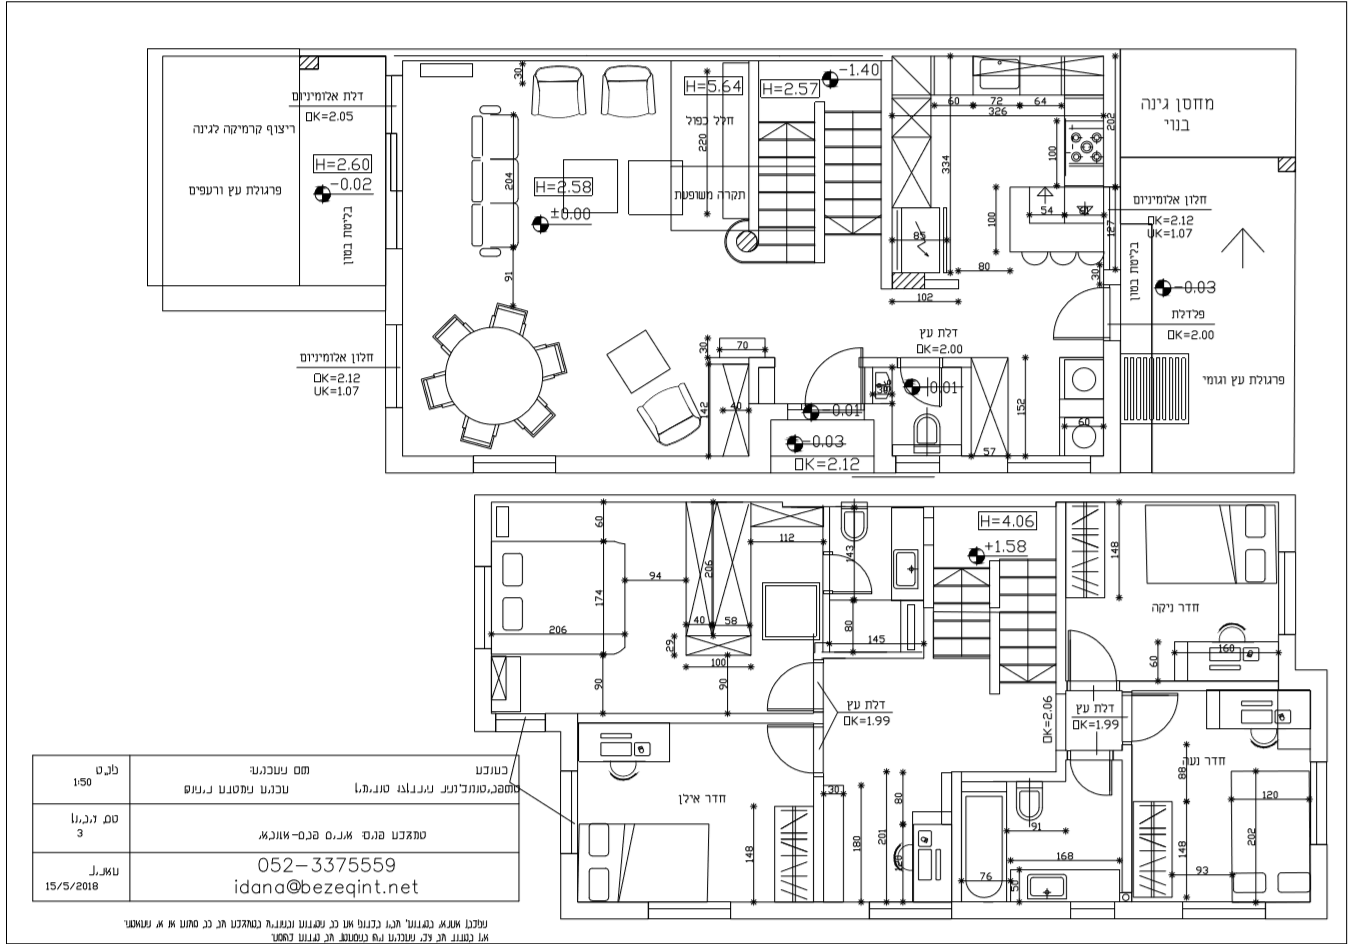door: (1063, 628, 1120, 680), (1050, 283, 1094, 345), (765, 721, 808, 779), (764, 660, 809, 711), (1067, 767, 1119, 801)
window: (459, 562, 499, 649), (1271, 550, 1303, 637), (1183, 895, 1267, 925), (472, 450, 558, 478), (646, 897, 731, 925), (870, 896, 952, 924), (1306, 759, 1331, 845), (1008, 452, 1094, 476), (1070, 898, 1117, 922)
